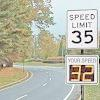speed limit sign: (66, 10, 98, 48)
